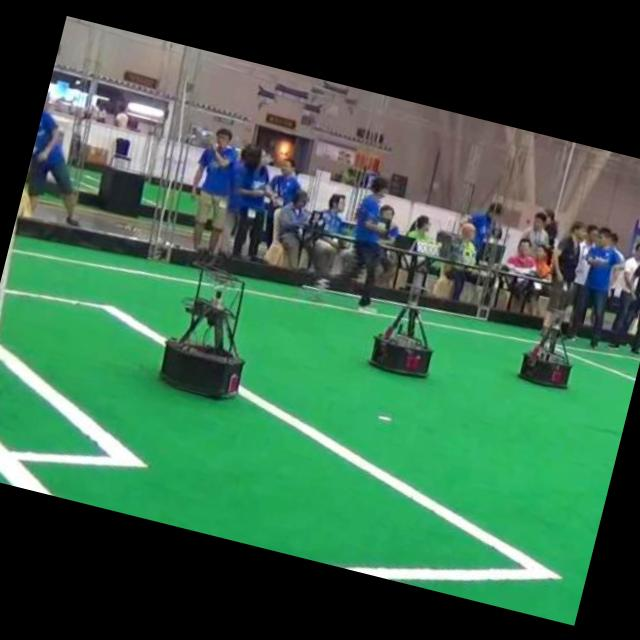robot: (160, 267, 243, 396), (369, 286, 432, 375), (518, 308, 572, 387)
